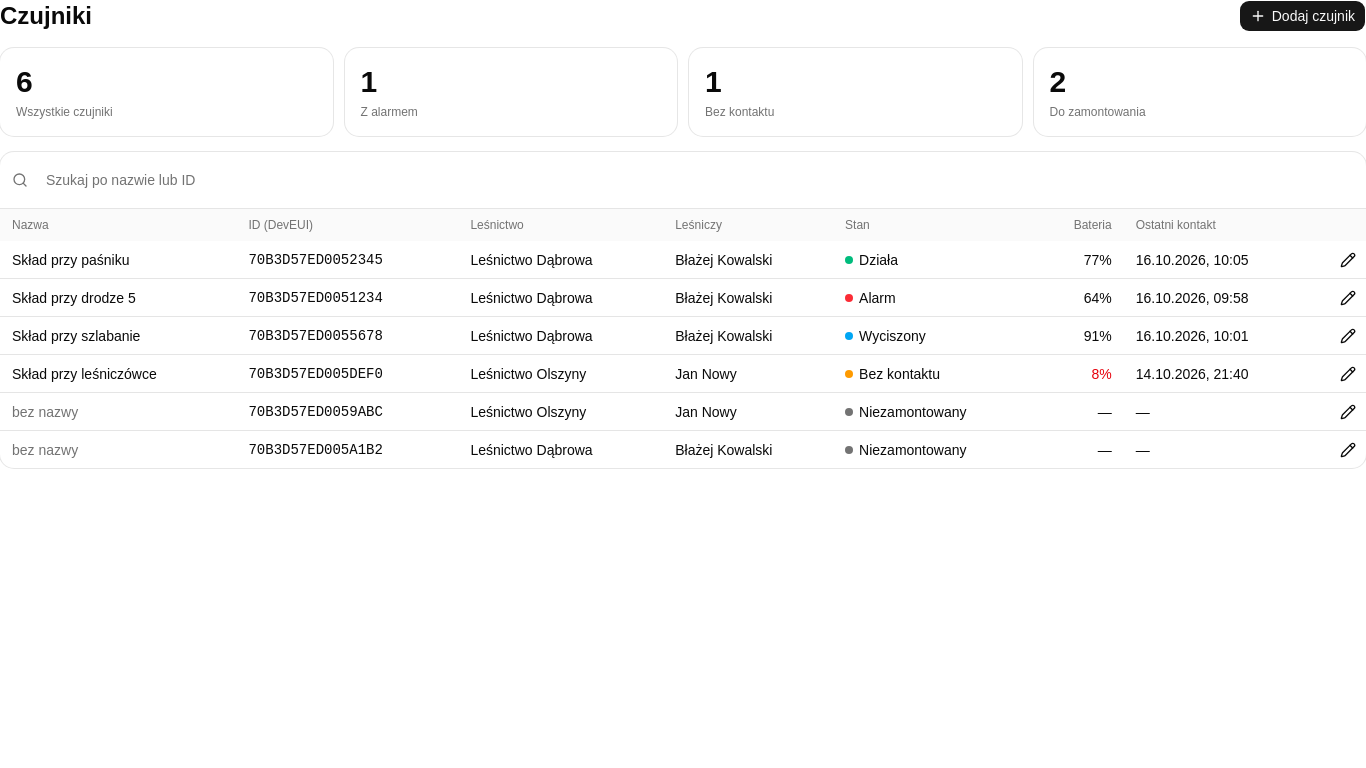
Test case: SensorsPage › moves a sensor to another range and renames it
Expected: the text "Skład przy drodze 5" is shown, left=0, top=278, right=236, bottom=316
Step 1. Click the button named "Edytuj czujnik 70B3D57ED0051234" → (1348, 298), box left=1334, top=284, right=1362, bottom=312
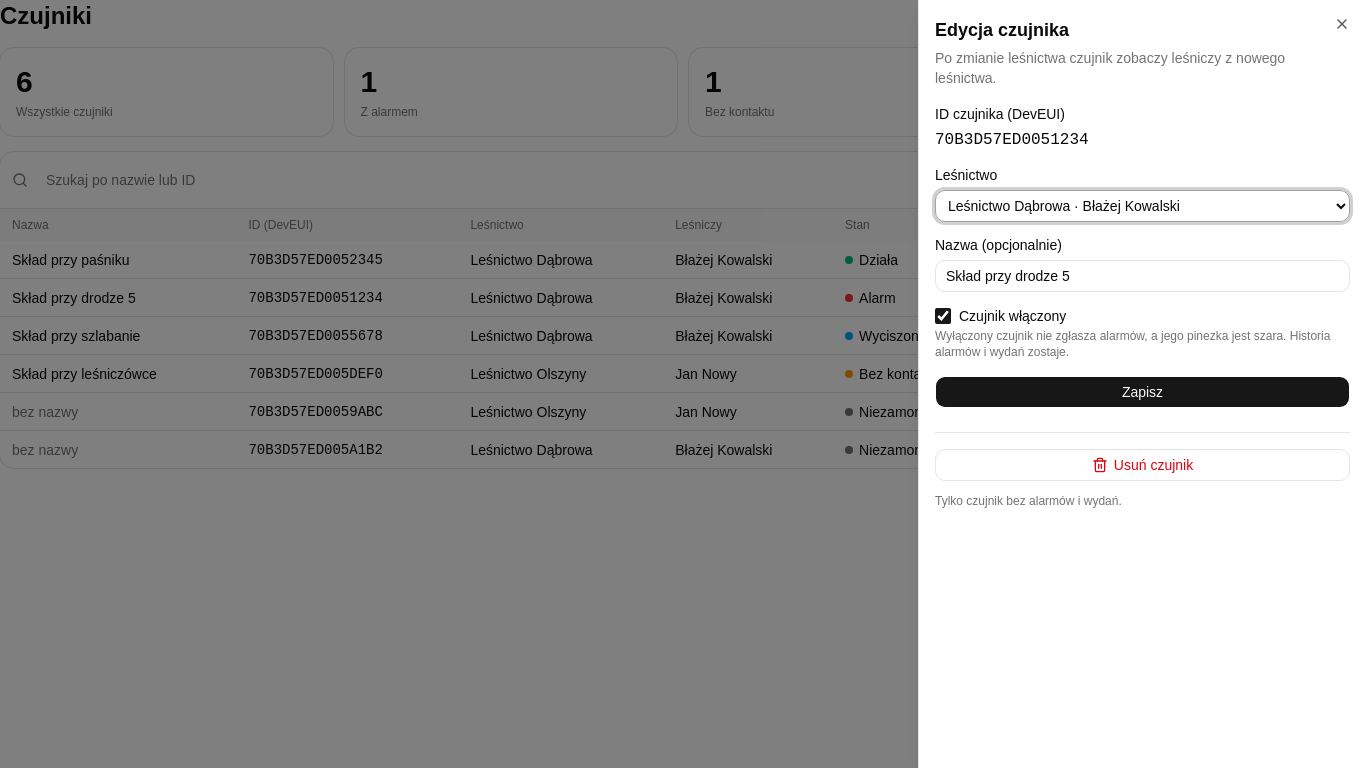
Expected: the text "70B3D57ED0051234" is shown, left=935, top=131, right=1089, bottom=149
Expected: the dropdown labelled "Leśnictwo" shows "Leśnictwo Dąbrowa · Błażej Kowalski"
Step 2. Select "Leśnictwo Olszyny · Jan Nowy" in the dropdown labelled "Leśnictwo" → (1142, 206), box left=935, top=190, right=1350, bottom=222
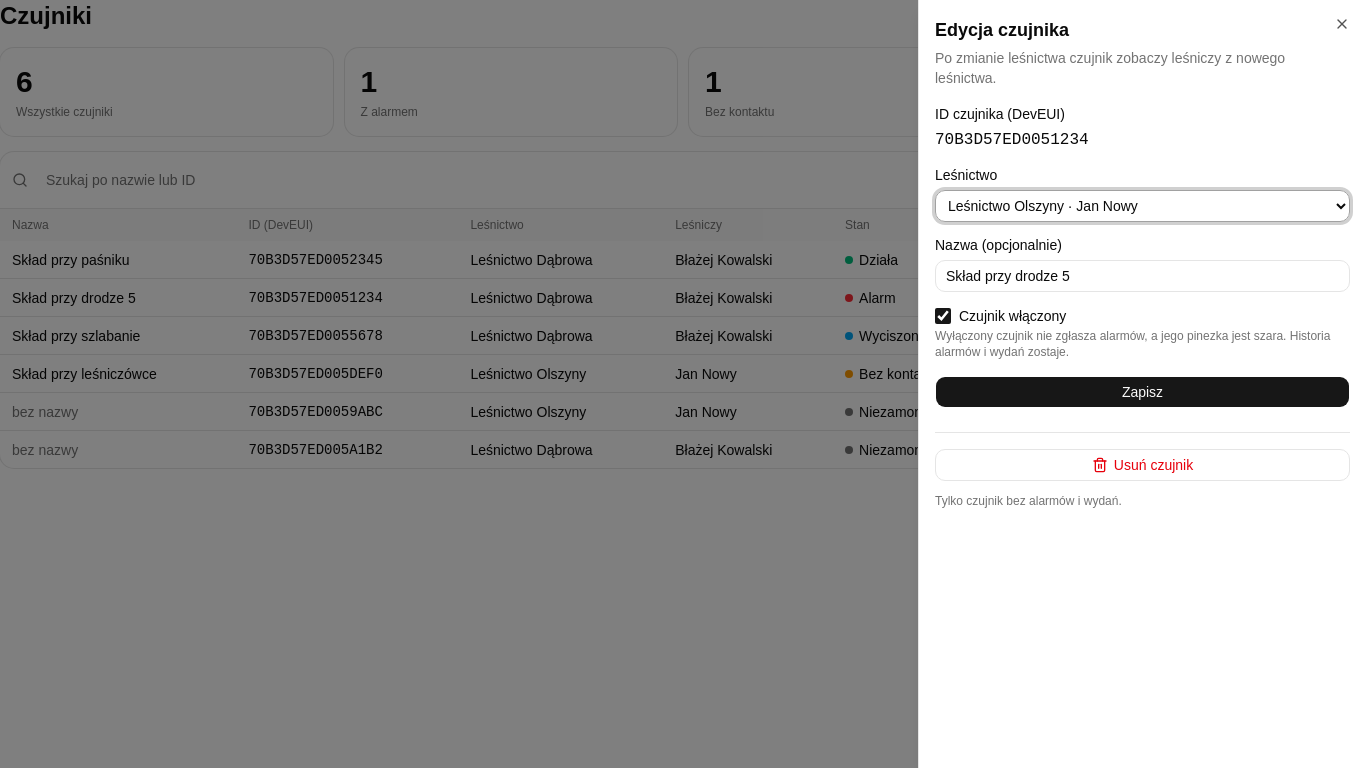
Step 3. Replace the text in the field labelled "Nazwa (opcjonalnie)" with "Skład przy moście" → (1142, 276), box left=935, top=260, right=1350, bottom=292
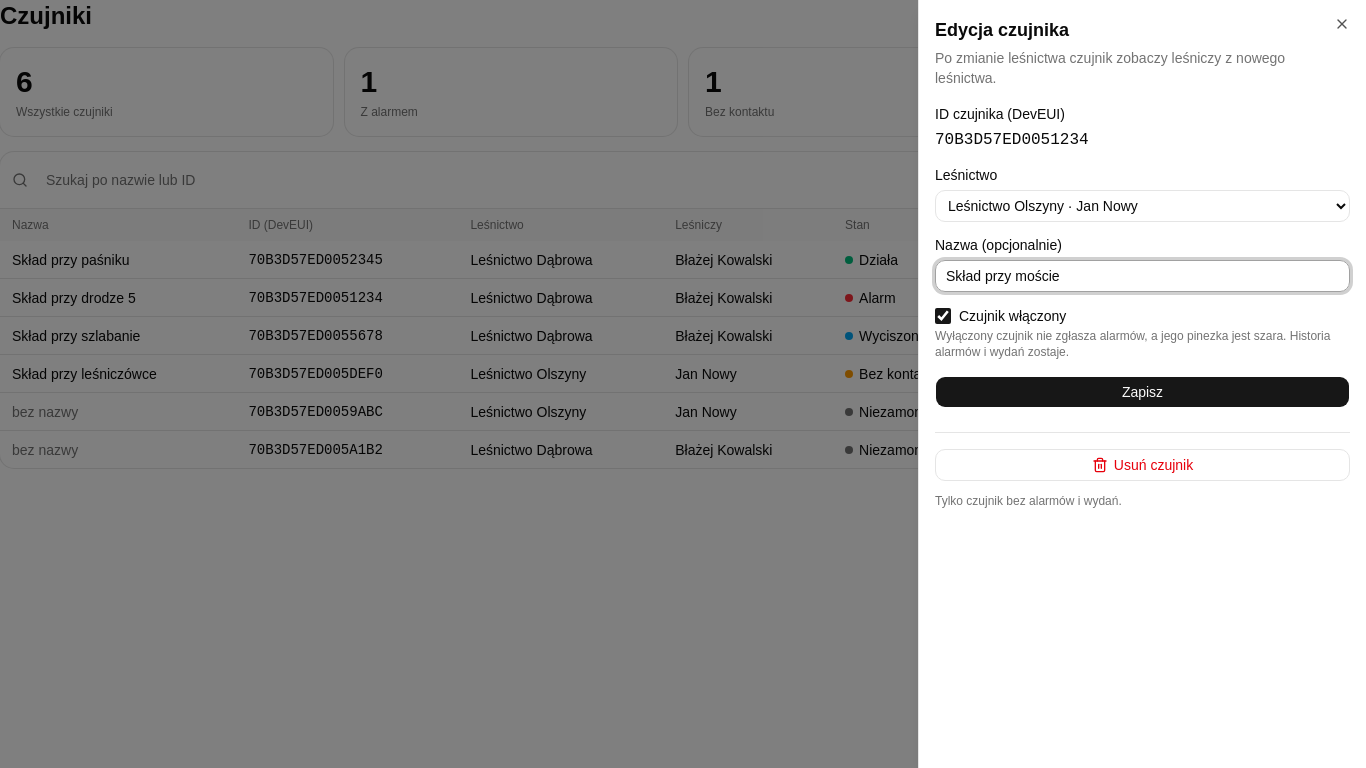
Step 4. Click the button "Zapisz" → (1142, 392), box left=935, top=376, right=1350, bottom=408
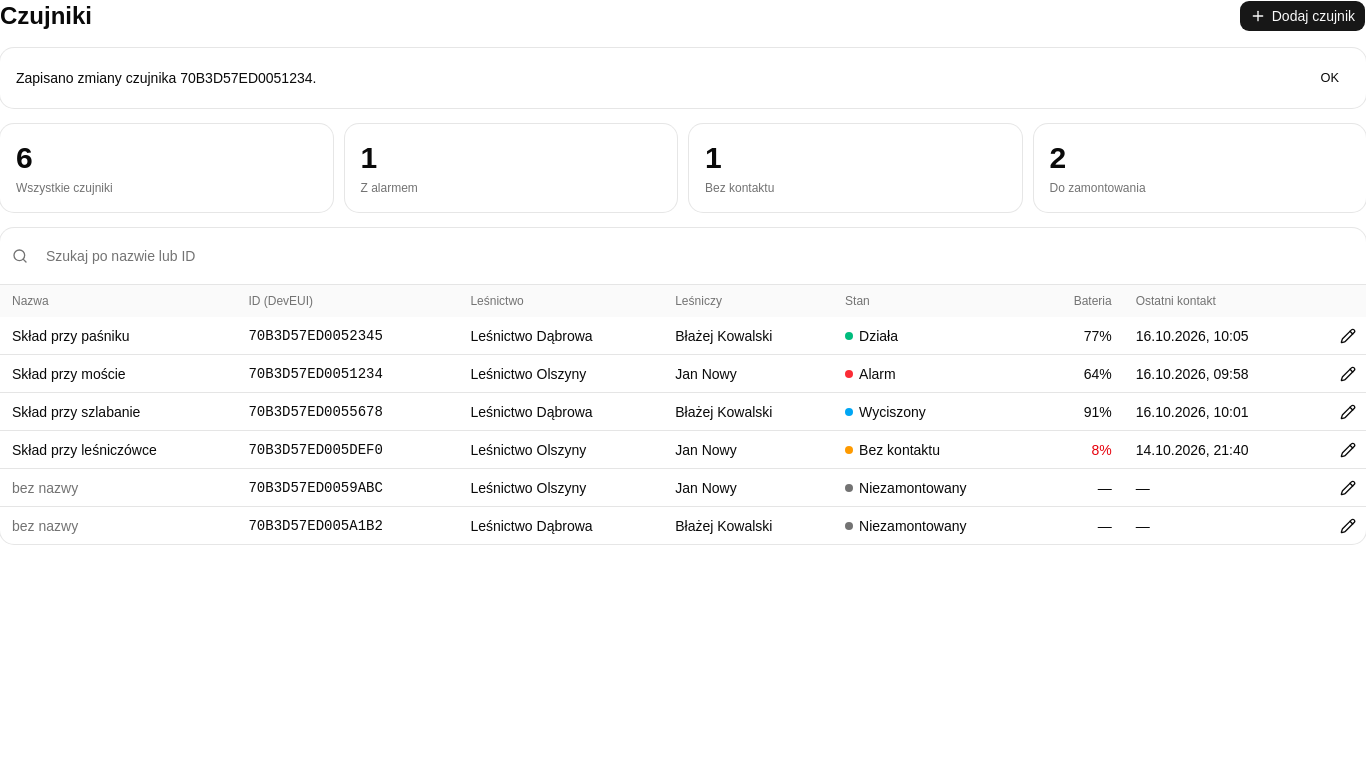
Expected: the message shows "Zapisano zmiany czujnika 70B3D57ED0051234", left=16, top=70, right=316, bottom=86
Expected: the dialog is gone
Expected: the text "Skład przy moście" is shown, left=0, top=354, right=236, bottom=392
